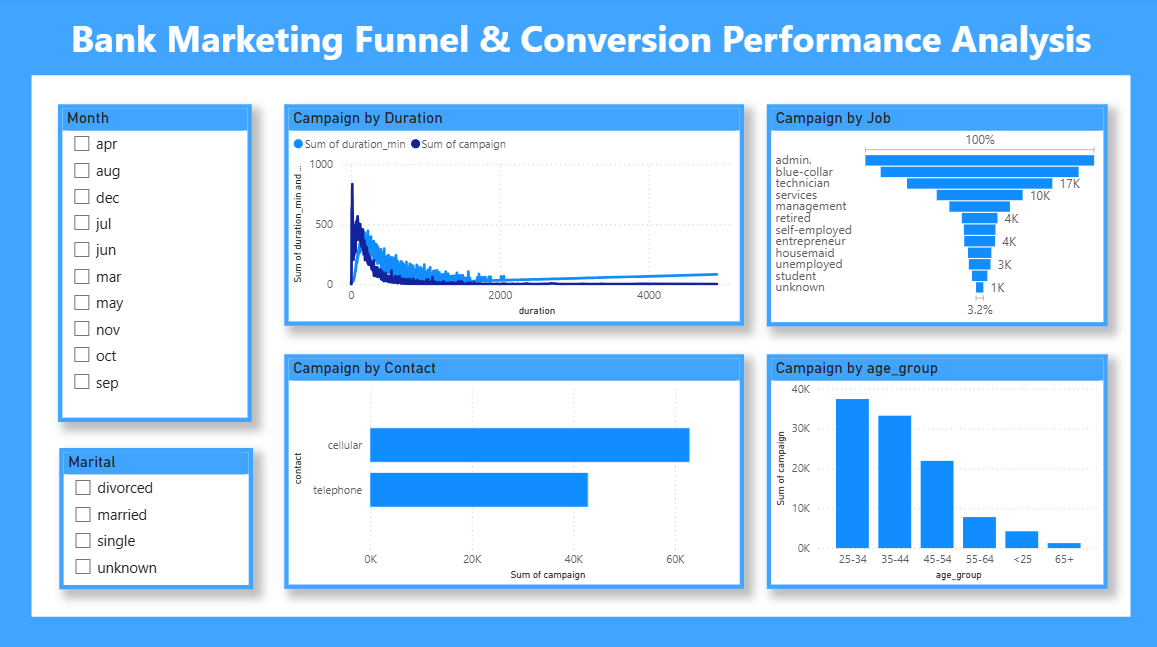

This screenshot's page, from the dashboard's own definition file:
{"tool":"powerbi","page":{"name":"Page 2","canvas":[1280,720],"ordinal":1},"visuals":[{"type":"slicer","title":"Month","fields":{"Values":["BankAdditional_Full.month"]},"box":[65.9,116.6,212.7,348.5],"z":0},{"type":"lineChart","title":"Campaign by Duration ","fields":{"Category":["BankMarketing_Full.duration"],"Y":["Sum(BankMarketing_Full.duration_min)","Sum(BankMarketing_Full.campaign)"]},"box":[314.2,116.6,505,242.9],"z":1000},{"type":"shape","box":[0,0,37,720.4],"z":2000},{"type":"shape","box":[0,679.2,1280.3,41.2],"z":3000},{"type":"shape","box":[1243.2,0,37,720.4],"z":4000},{"type":"shape","box":[0,0,1280.3,85.1],"z":5000},{"type":"funnel","title":"Campaign by Job","fields":{"Y":["Sum(BankAdditional_Full.campaign)"],"Category":["BankAdditional_Full.job"]},"box":[843.9,116.6,374.6,244.3],"z":6000},{"type":"clusteredColumnChart","title":"Campaign by age_group","fields":{"Y":["Sum(BankAdditional_Full.campaign)"],"Category":["BankAdditional_Full.age_group"]},"box":[843.9,391.1,374.6,258],"z":7000},{"type":"clusteredBarChart","title":"Campaign by Contact","fields":{"Y":["Sum(BankAdditional_Full.campaign)"],"Category":["BankAdditional_Full.contact"]},"box":[314.2,391.1,505,258],"z":8000},{"type":"slicer","title":"Marital ","fields":{"Values":["BankAdditional_Full.marital"]},"box":[67.2,494,212.7,155.1],"z":9000}]}

Visuals, with their boxes in screenshot pixels (x1, y1, x2, y2), scaled from the page's 1280x720 canvas onto the 1157x647 screenshot:
"Month" slicer: <bbox>60, 105, 252, 418</bbox>
"Campaign by Duration " lineChart: <bbox>284, 105, 740, 323</bbox>
shape: <bbox>0, 0, 33, 646</bbox>
shape: <bbox>0, 610, 1156, 646</bbox>
shape: <bbox>1124, 0, 1156, 646</bbox>
shape: <bbox>0, 0, 1156, 76</bbox>
"Campaign by Job" funnel: <bbox>763, 105, 1101, 324</bbox>
"Campaign by age_group" clusteredColumnChart: <bbox>763, 351, 1101, 583</bbox>
"Campaign by Contact" clusteredBarChart: <bbox>284, 351, 740, 583</bbox>
"Marital " slicer: <bbox>61, 444, 253, 583</bbox>
